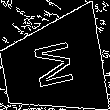M_W: (28, 39, 77, 94)
